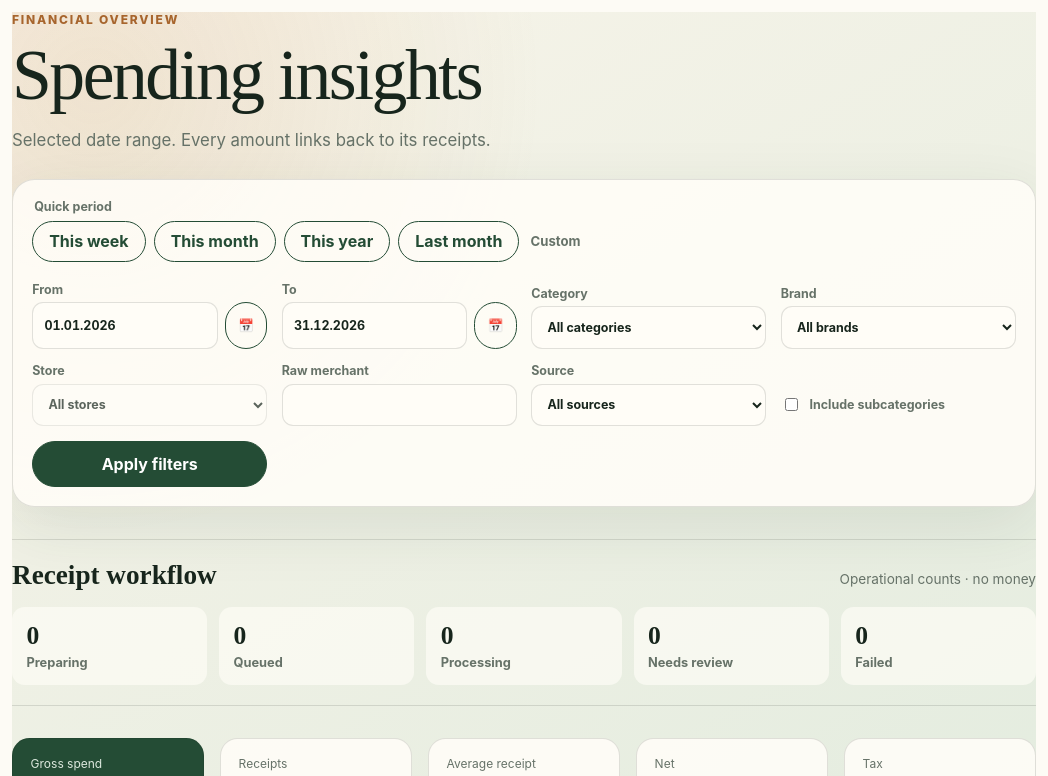
Test: spending insights › keeps invalid and reversed date edits visible without changing the URL
The width and height of the screenshot is (1048, 776).
Replace the text in the field labelled "From" with "31.02.2026" at coordinates (125, 326), box [32,302,218,349]
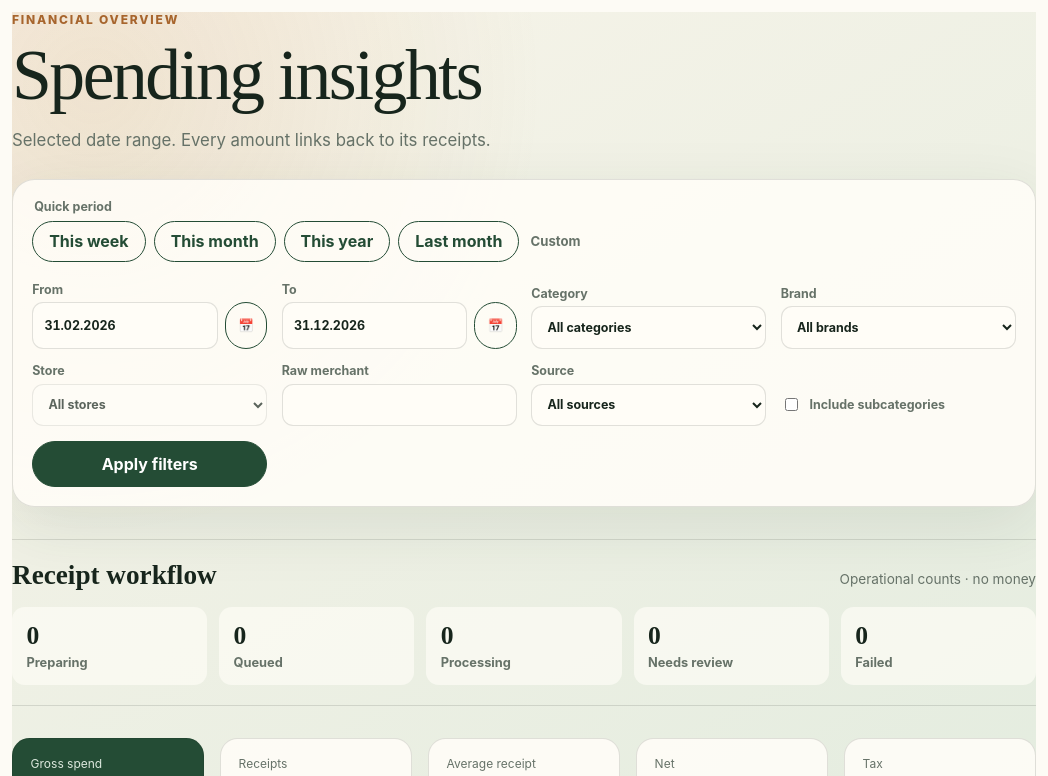
Click the button "Apply filters" at coordinates (150, 464), box [32,440,267,487]
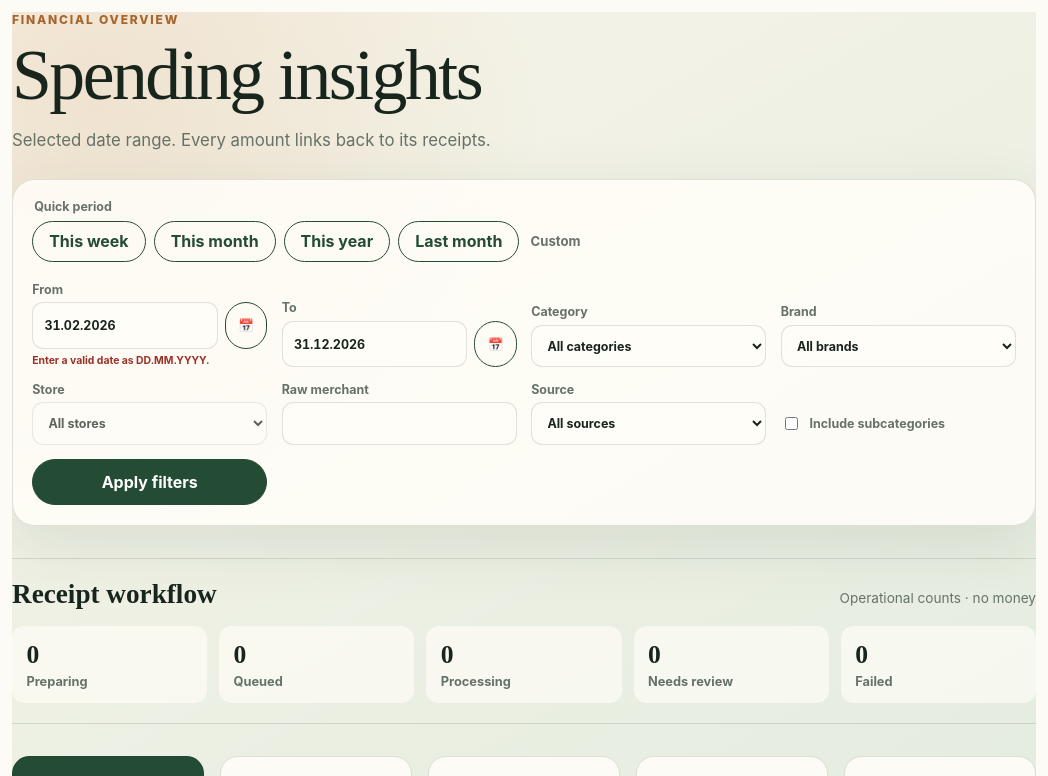
Check: the text "Enter a valid date as DD.MM.YYYY." is shown, box [32,354,210,367]
Replace the text in the field labelled "From" with "31.12.2026" at coordinates (125, 326), box [32,302,218,349]
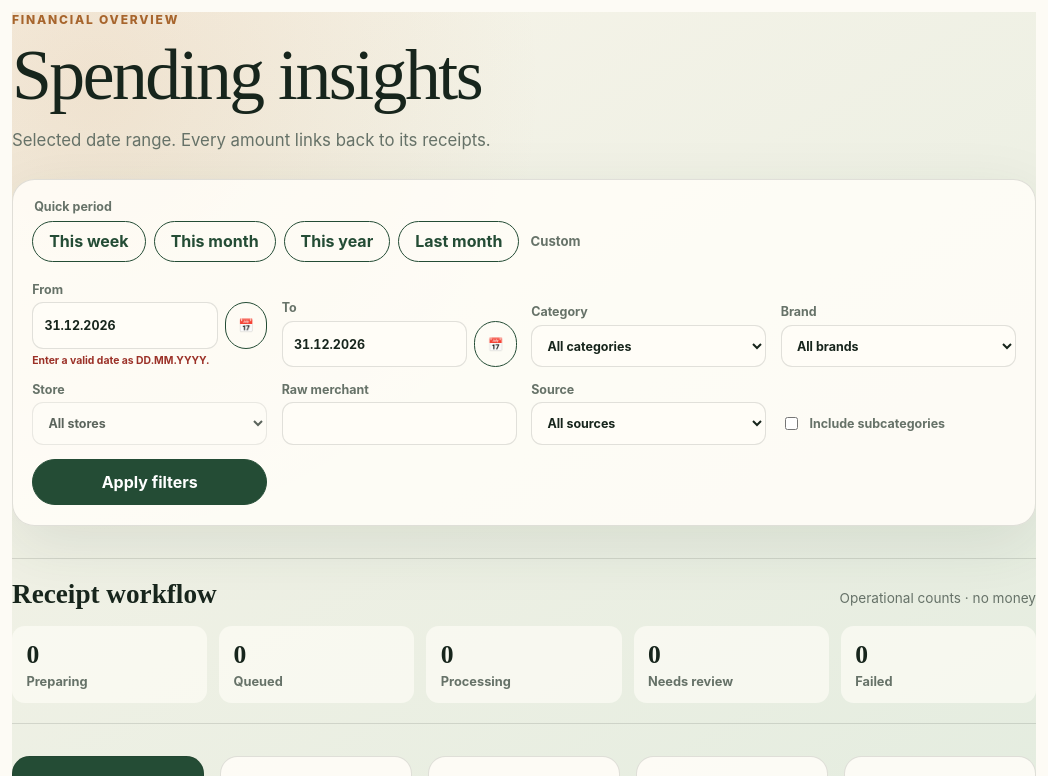
Replace the text in the field labelled "To" with "01.01.2026" at coordinates (374, 344), box [282,321,467,367]
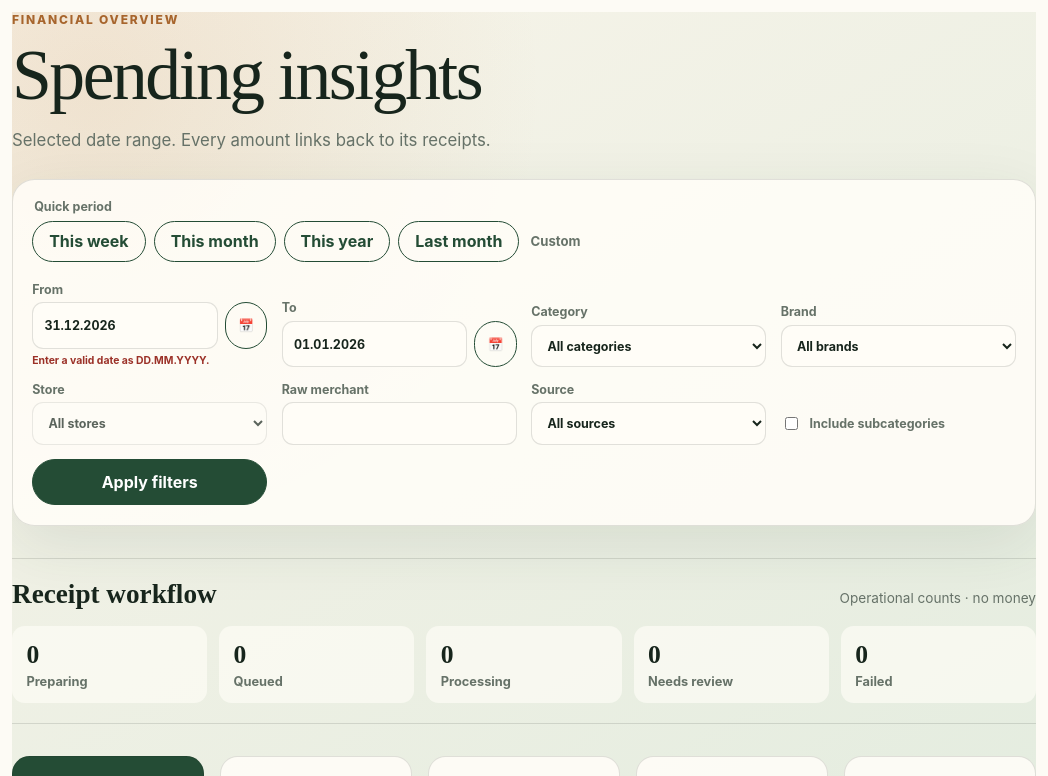
Click the button "Apply filters" at coordinates (150, 482), box [32,459,267,506]
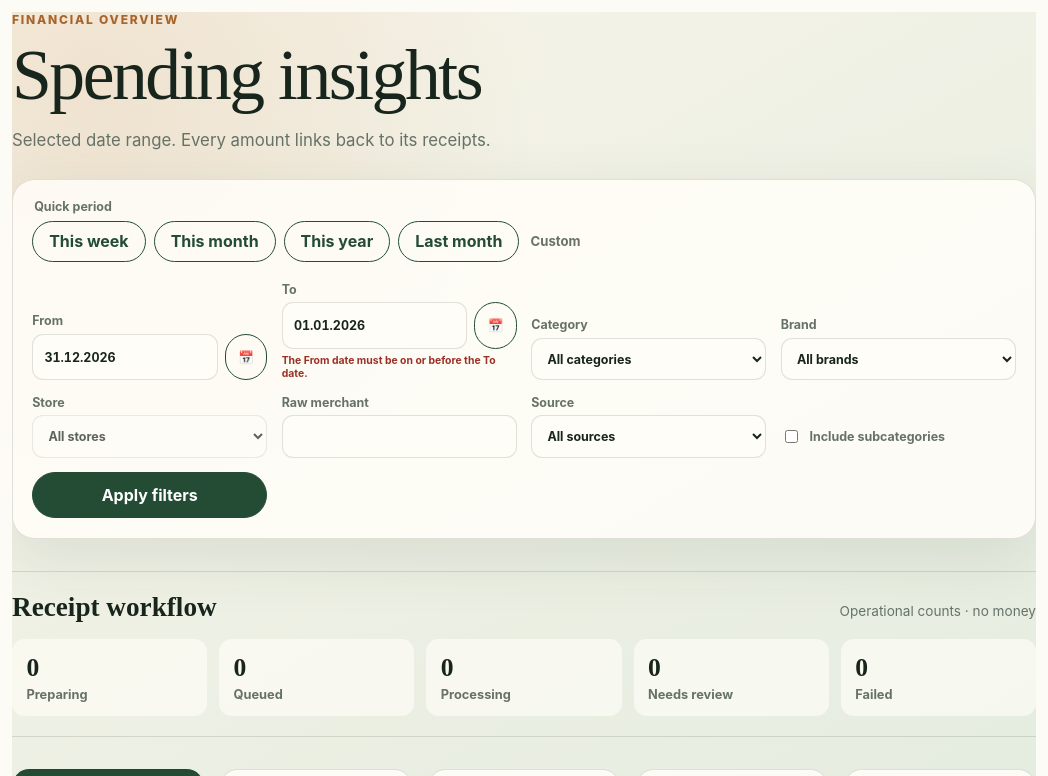
Check: the text "The From date must be on or before the To date." is shown, box [282,354,517,380]
